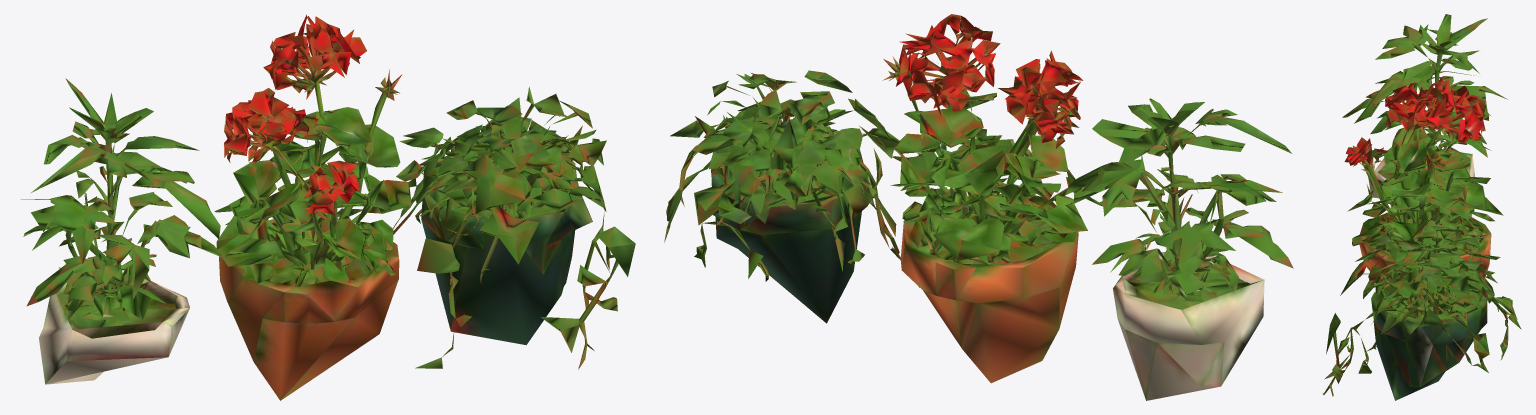
Rendered from getkong-topf1.glb.
3 renders of one model, left to right at view 1: azimuth 30°, elevation 25°; view 2: azimuth 150°, elevation 25°; view 3: azimuth 270°, elevation 25°, orthographic. The views are drawn at different scales.
Visible parts, largest first — view 1: output_unwrapped; view 2: output_unwrapped; view 3: output_unwrapped.
Part boxes in pixels (x1,y1,x2,y2): output_unwrapped: [21, 14, 635, 400]; output_unwrapped: [664, 14, 1293, 400]; output_unwrapped: [1322, 14, 1521, 400].
Size of the model in its own units: 1.86 by 1.04 by 0.7253.
Materials: 1 (1 with a texture image).
